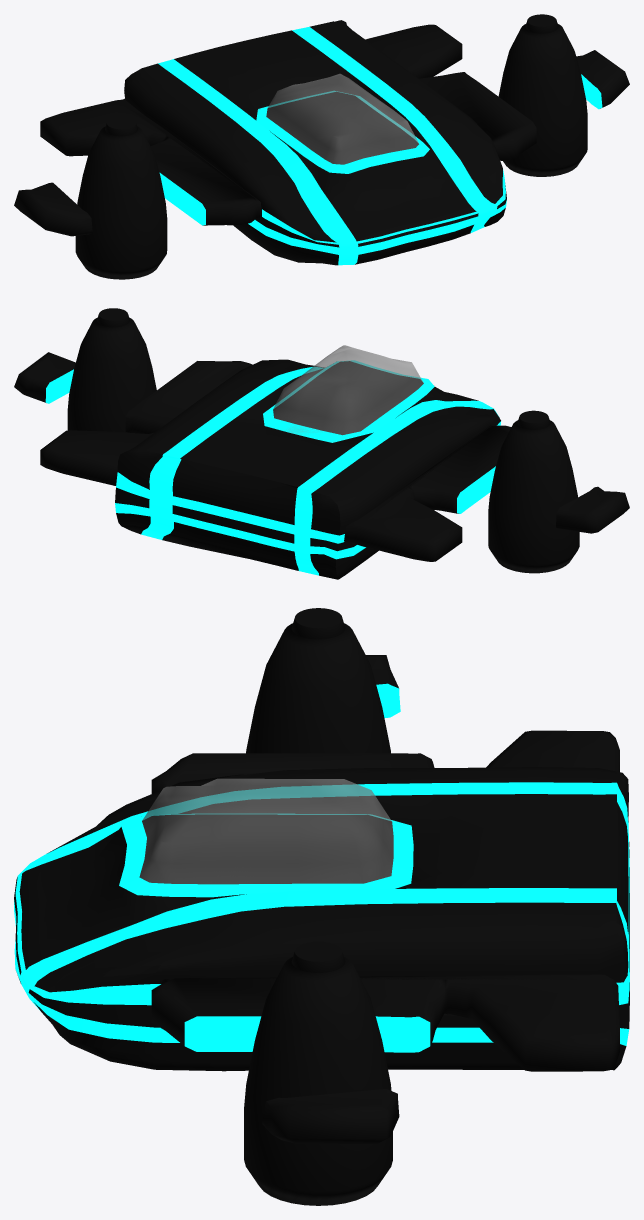
The model's file is Ship@ShipDoorOpen.FBX.
The picture shows the model from 3 angles, top to bottom: view 1: azimuth 30°, elevation 25°; view 2: azimuth 150°, elevation 25°; view 3: azimuth 270°, elevation 25°; orthographic projection. The views are drawn at different scales.
Parts seen in each view (by area): view 1: Base, Engines, Wings, Base-Neon, Cockpit Door, Cockpit, Cockpit Door-Neon, Wings-Neon; view 2: Base, Wings, Engines, Base-Neon, Cockpit Door, Cockpit, Cockpit Door-Neon, Wings-Neon; view 3: Base, Engines, Wings, Cockpit Door, Base-Neon, Cockpit, Cockpit Door-Neon, Wings-Neon.
Boxes of the visible parts, left/top/right/bottom form: Base: left=124, top=20, right=506, bottom=265; Engines: left=75, top=14, right=587, bottom=279; Wings: left=14, top=24, right=629, bottom=236; Base-Neon: left=158, top=26, right=506, bottom=265; Cockpit Door: left=258, top=73, right=418, bottom=164; Cockpit: left=257, top=91, right=418, bottom=164; Cockpit Door-Neon: left=256, top=91, right=429, bottom=173; Wings-Neon: left=159, top=74, right=602, bottom=225; Base: left=115, top=359, right=500, bottom=579; Wings: left=14, top=352, right=629, bottom=561; Engines: left=67, top=308, right=579, bottom=573; Base-Neon: left=115, top=367, right=500, bottom=575; Cockpit Door: left=273, top=345, right=423, bottom=442; Cockpit: left=263, top=361, right=423, bottom=434; Cockpit Door-Neon: left=263, top=360, right=434, bottom=442; Wings-Neon: left=45, top=369, right=495, bottom=513; Base: left=14, top=767, right=629, bottom=1071; Engines: left=244, top=608, right=392, bottom=1205; Wings: left=151, top=655, right=619, bottom=1143; Cockpit Door: left=140, top=778, right=393, bottom=883; Base-Neon: left=14, top=782, right=629, bottom=1045; Cockpit: left=139, top=814, right=413, bottom=884; Cockpit Door-Neon: left=119, top=814, right=413, bottom=897; Wings-Neon: left=184, top=683, right=430, bottom=1052.
Size of the model in its own units: 268 by 61.3 by 150.
